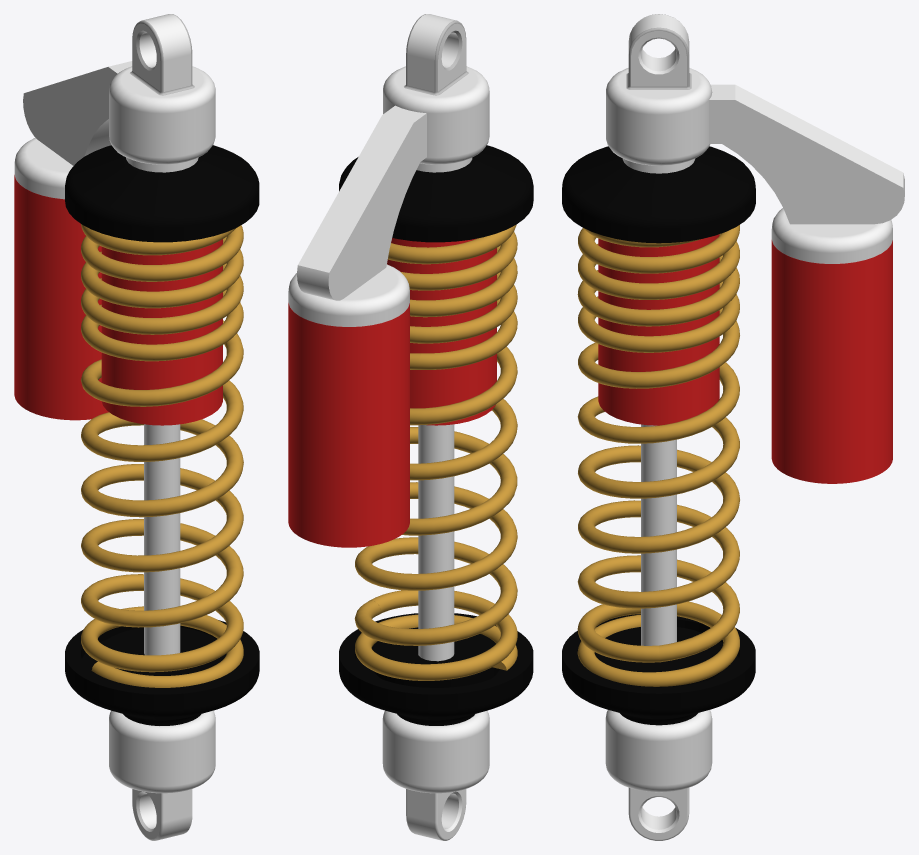
The picture shows the model from 3 angles, left to right: view 1: azimuth 30°, elevation 25°; view 2: azimuth 150°, elevation 25°; view 3: azimuth 270°, elevation 25°; orthographic projection.
Parts seen in each view (by area): view 1: Solid1 (×3), Solid3; view 2: Solid1 (×3), Solid3; view 3: Solid1 (×3), Solid3.
Part boxes in pixels (bbox=[...]): Solid1 (×3): bbox=[14, 14, 259, 840]; Solid3: bbox=[81, 224, 243, 687]; Solid1 (×3): bbox=[288, 14, 533, 840]; Solid3: bbox=[354, 224, 517, 680]; Solid1 (×3): bbox=[562, 14, 904, 840]; Solid3: bbox=[577, 225, 739, 686].
Size of the model in its own units: 0.08 by 0.3699 by 0.1414.
